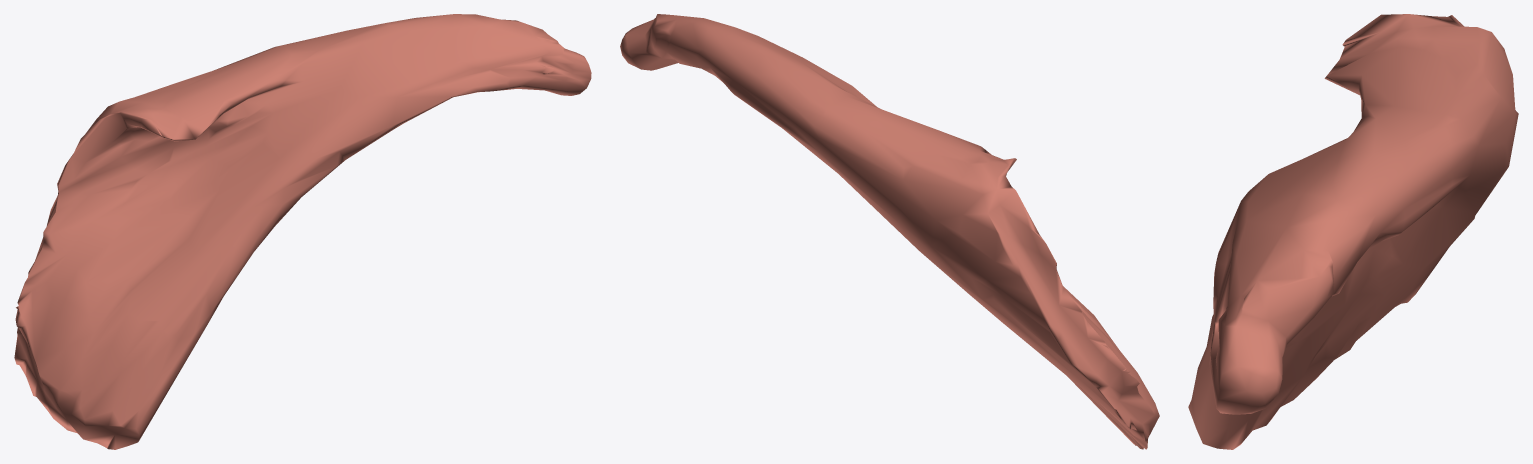
3 renders of one model, left to right at view 1: azimuth 30°, elevation 25°; view 2: azimuth 150°, elevation 25°; view 3: azimuth 270°, elevation 25°, orthographic. The views are drawn at different scales.
Parts seen in each view (by area): view 1: 左侧闭孔外肌; view 2: 左侧闭孔外肌; view 3: 左侧闭孔外肌.
Boxes of the visible parts, x1,y1,x2,y2 form: 左侧闭孔外肌: (14, 14, 591, 449); 左侧闭孔外肌: (620, 14, 1159, 449); 左侧闭孔外肌: (1188, 14, 1518, 449).
Bounding box in the file's own units: 0.1467 × 0.0857 × 0.0456.
